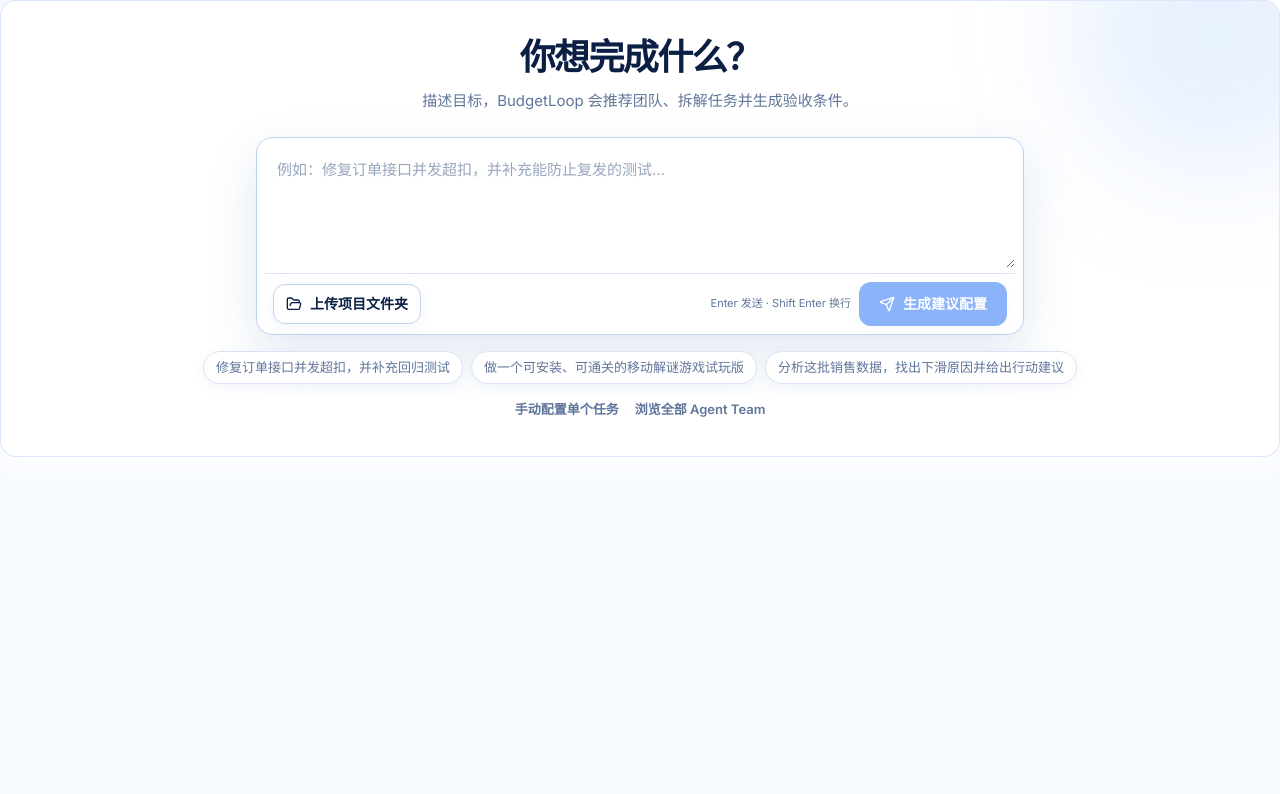
it: home conversational intake › renders at most two public clarification prompts without claiming creation
Type "做一个新产品" into the text box named "描述想完成的目标". click: (640, 207)
box: [265,146,1015,268]
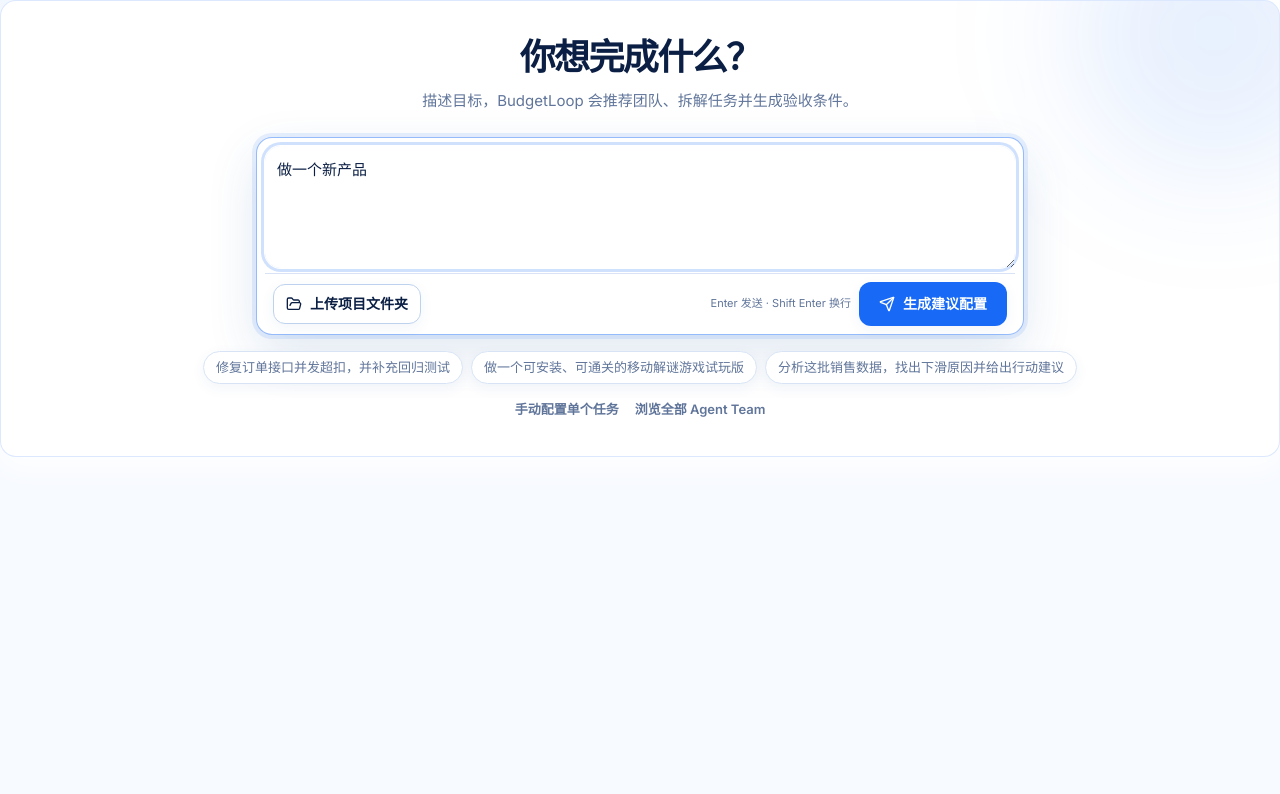
Click the button "生成建议配置". click: click(933, 304)
box: [859,282,1007,326]
(page scrolled)
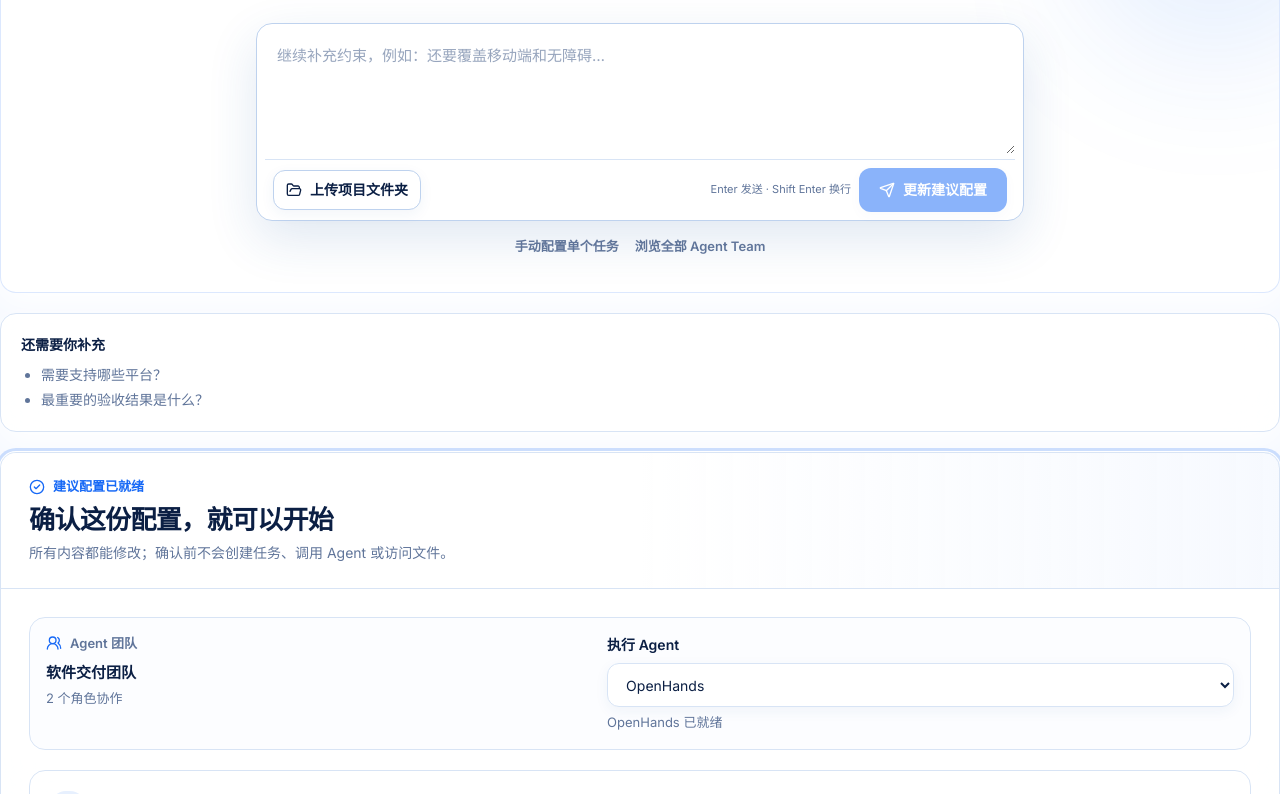
Now the heading "还需要你补充" is shown, box [21,336,105,353]
Now the list item "需要支持哪些平台？" is shown, box [41,366,167,383]
Now the list item "最重要的验收结果是什么？" is shown, box [41,392,209,408]
